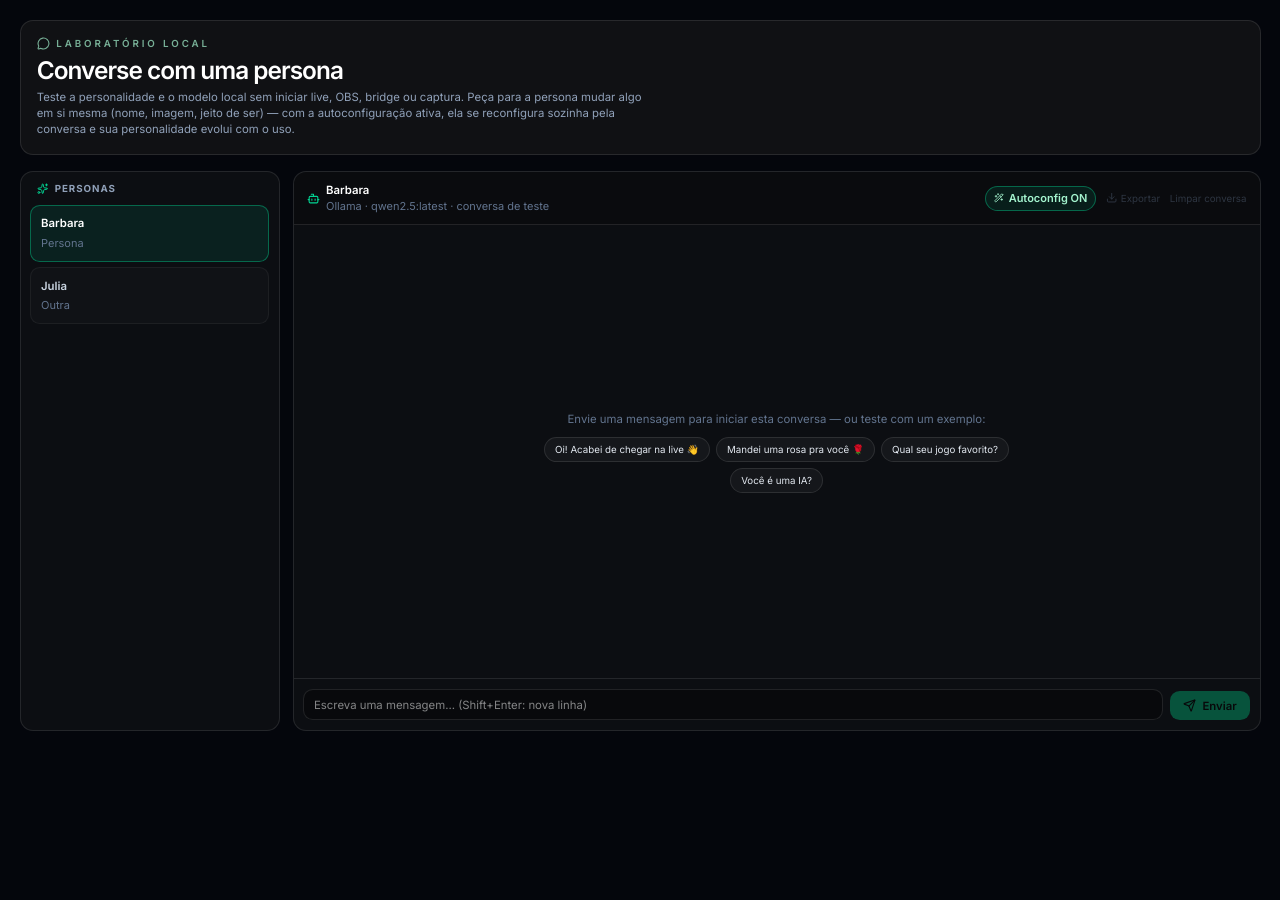
Test: PersonaChatLab › falha da IA vira aviso (não fala da persona) e "Tentar de novo" não duplica a mensagem
Expected: the button "Barbara Persona" is shown, [30,204,269,262]
Type "oi" into the text box named "Mensagem para a persona".
click(733, 705); type("oi")  # box [303,689,1164,720]
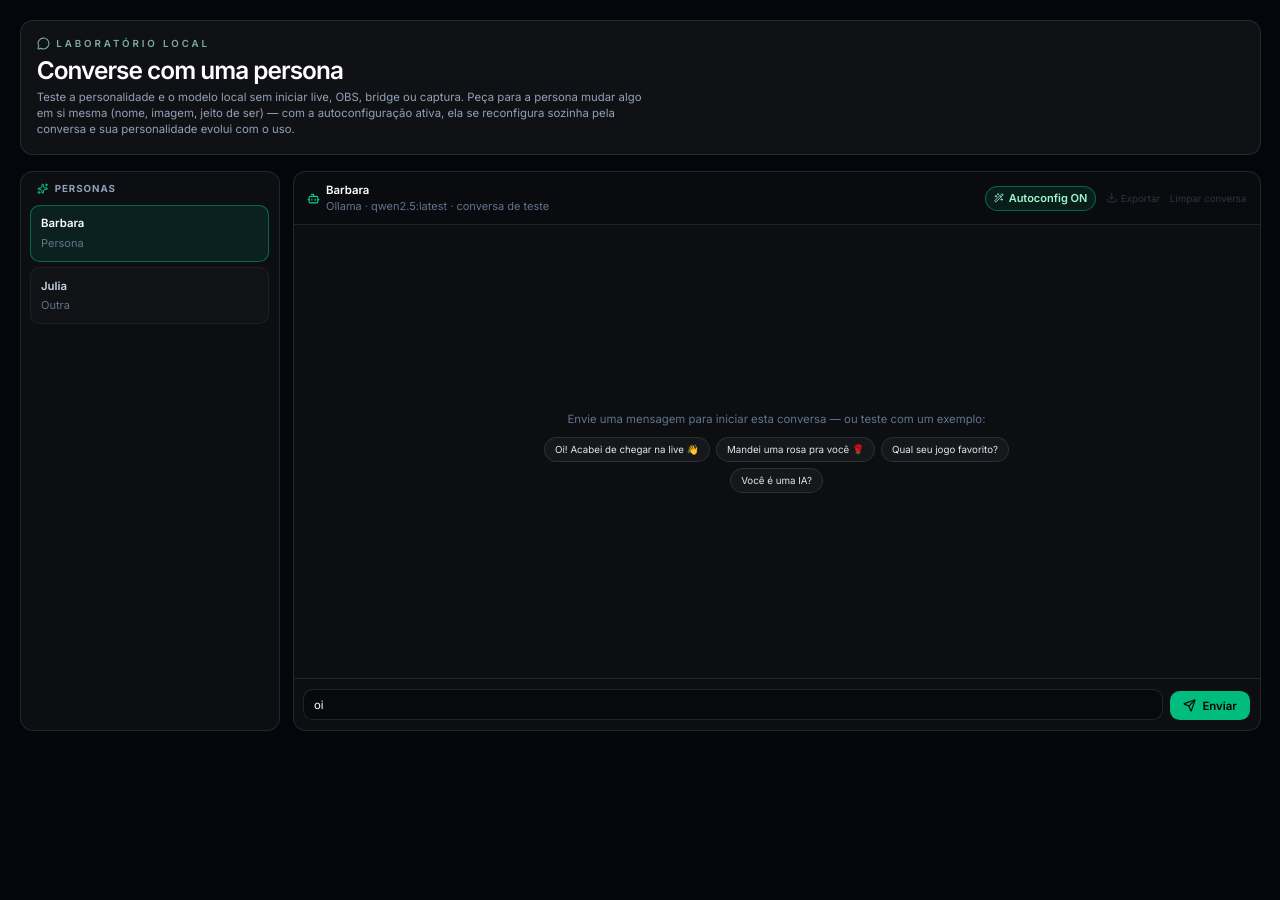
Click the button "Enviar".
click(1210, 706)  # box [1170,691,1250,720]
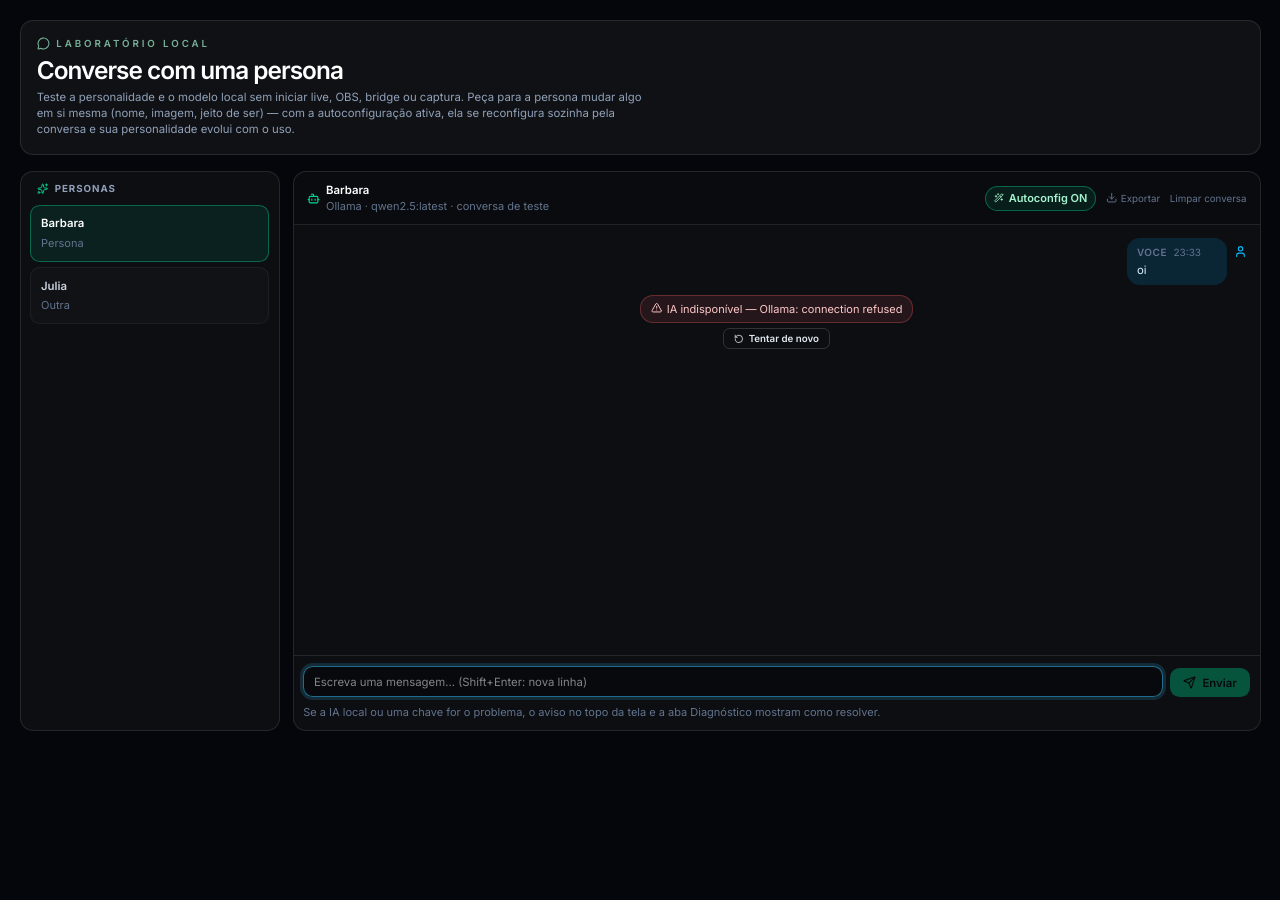
Now the text "IA indisponível — Ollama: connection refused" is shown, box [667,301,902,317]
Click the button "Tentar de novo".
click(777, 339)  # box [723,328,830,349]
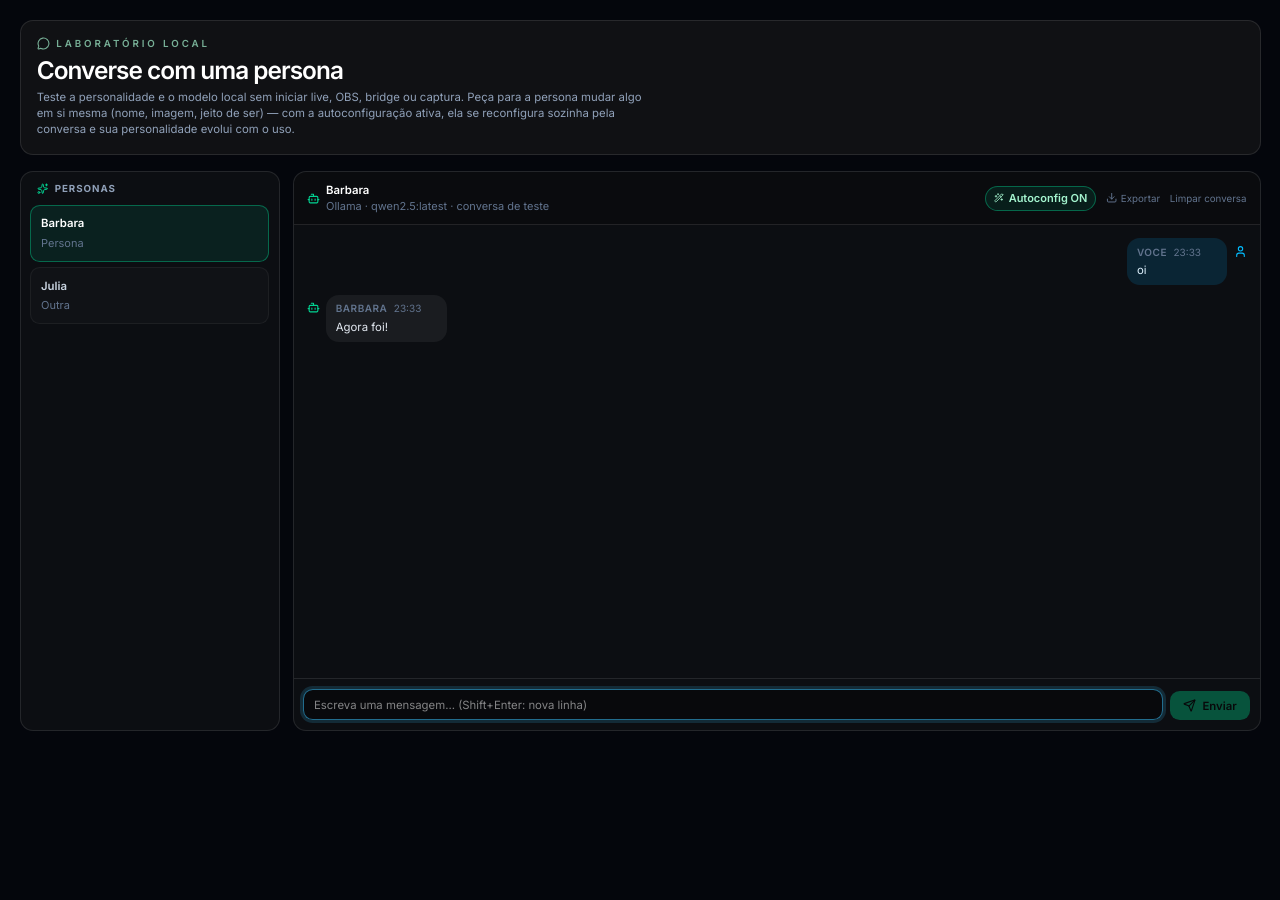
Expected: the text "oi" is shown once, [1137,263,1147,277]
Now the text "Agora foi!" is shown, box [336,320,388,334]
Now the text "connection refused" is gone
